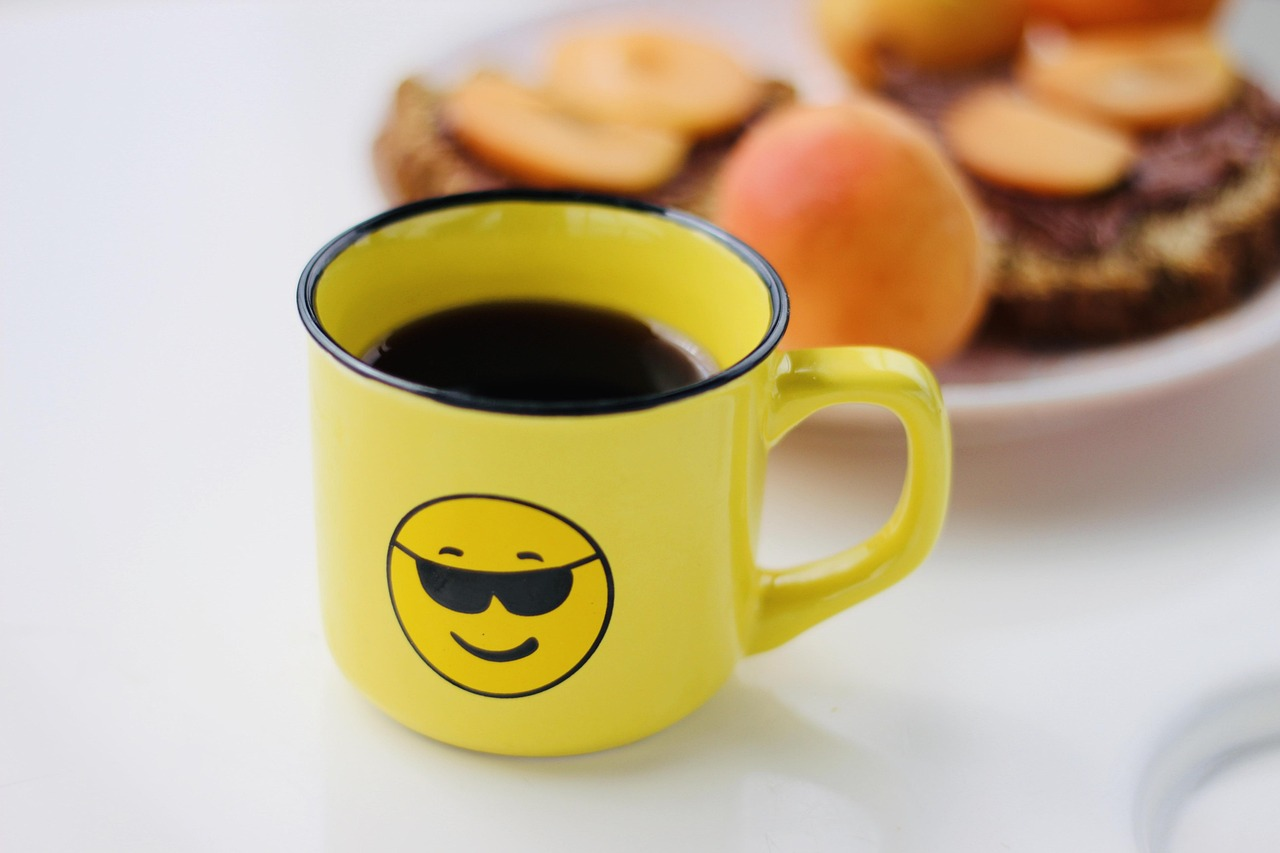mug: (305, 184, 1019, 731)
